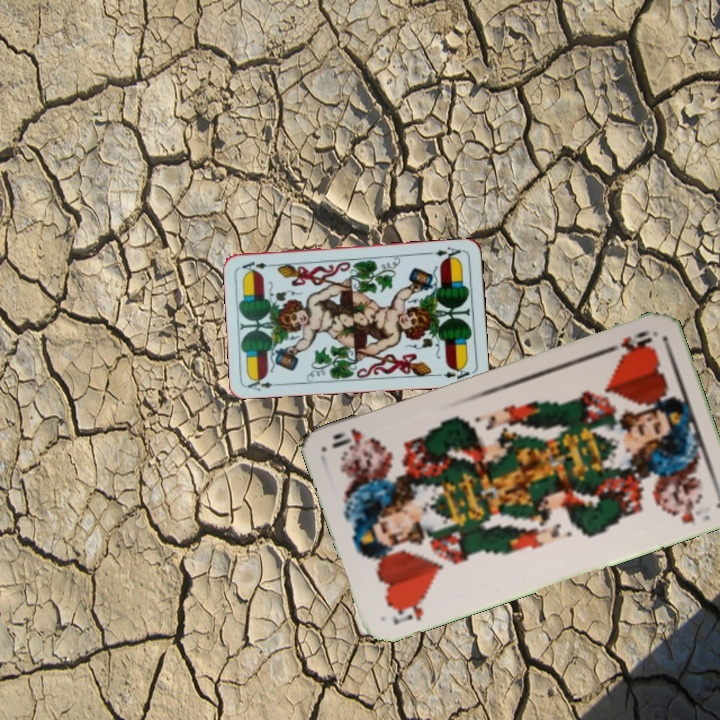EA: (426, 243, 466, 263), (244, 374, 284, 394)
HO: (599, 327, 655, 358), (388, 593, 429, 627)
